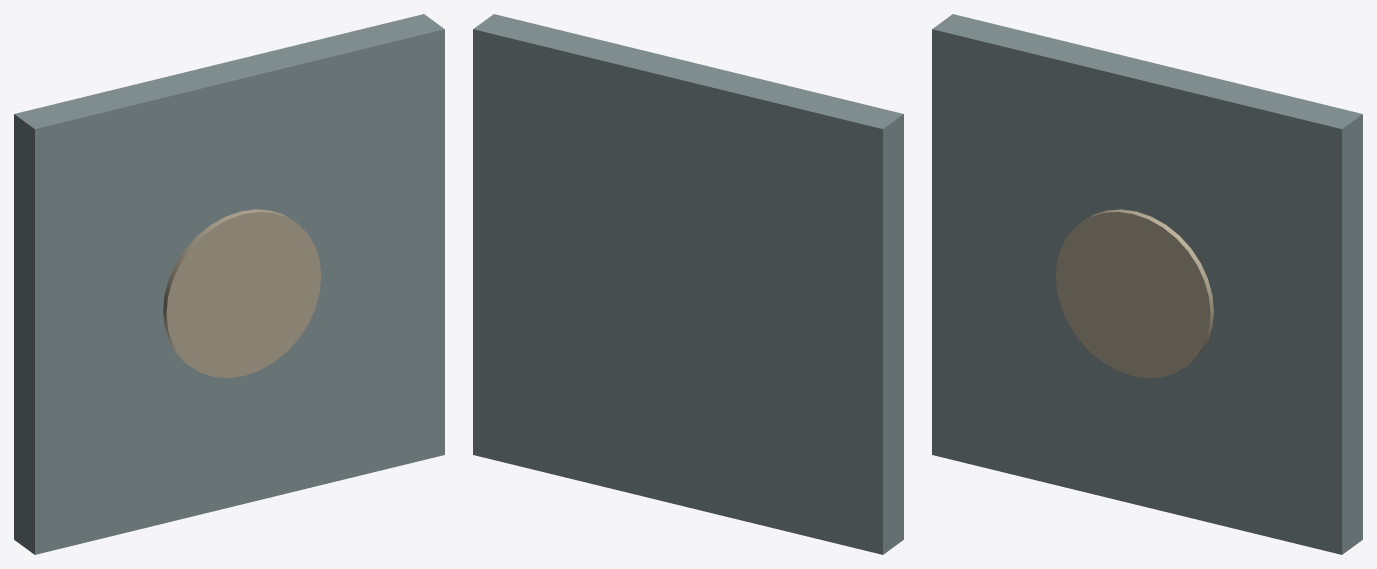
File: desk-figurine.glb
3 views of the same model, side by side, from view 1: azimuth 30°, elevation 25°; view 2: azimuth 150°, elevation 25°; view 3: azimuth 330°, elevation 25° (orthographic).
Visible parts, largest first — view 1: PublicNeutral_AbstractPlaque, PublicNeutral_AbstractDisc; view 2: PublicNeutral_AbstractPlaque; view 3: PublicNeutral_AbstractPlaque, PublicNeutral_AbstractDisc.
Part boxes in pixels (<box>): PublicNeutral_AbstractPlaque: <box>14,14,444,554</box>; PublicNeutral_AbstractDisc: <box>163,209,321,378</box>; PublicNeutral_AbstractPlaque: <box>473,14,903,554</box>; PublicNeutral_AbstractPlaque: <box>932,14,1362,554</box>; PublicNeutral_AbstractDisc: <box>1055,209,1213,378</box>.
Bounding box in the file's own units: 0.2052 × 0.2037 × 0.0215.
